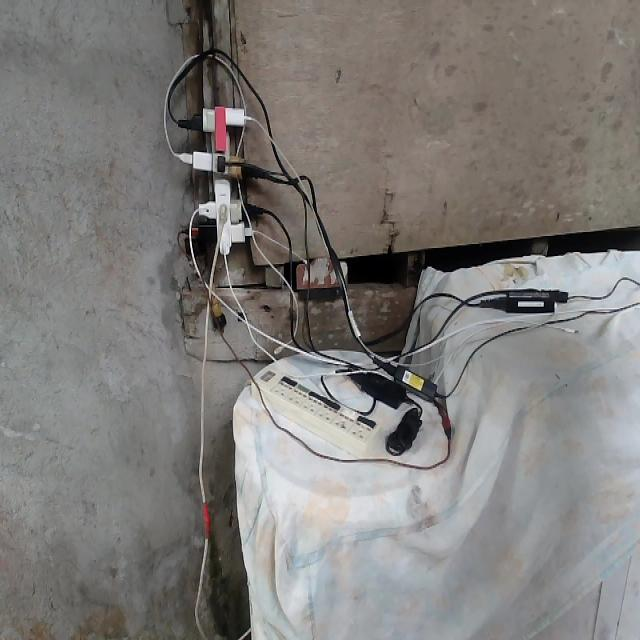-: (176, 102, 262, 258)
